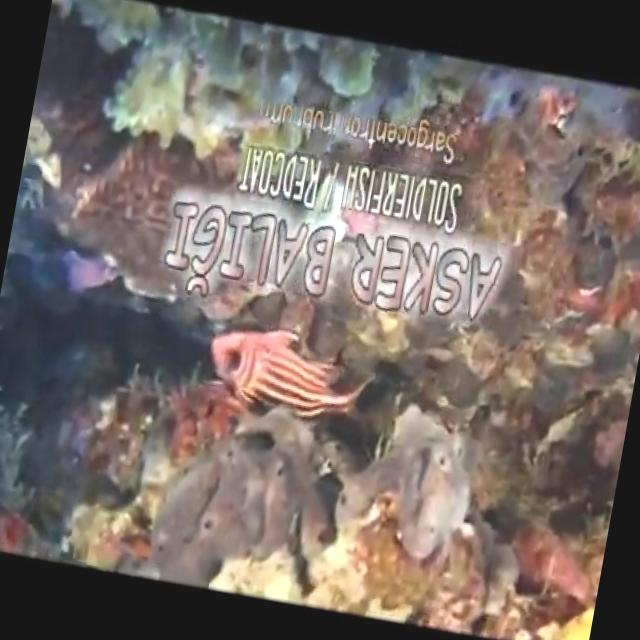Asker Baligi: (197, 306, 381, 432)
